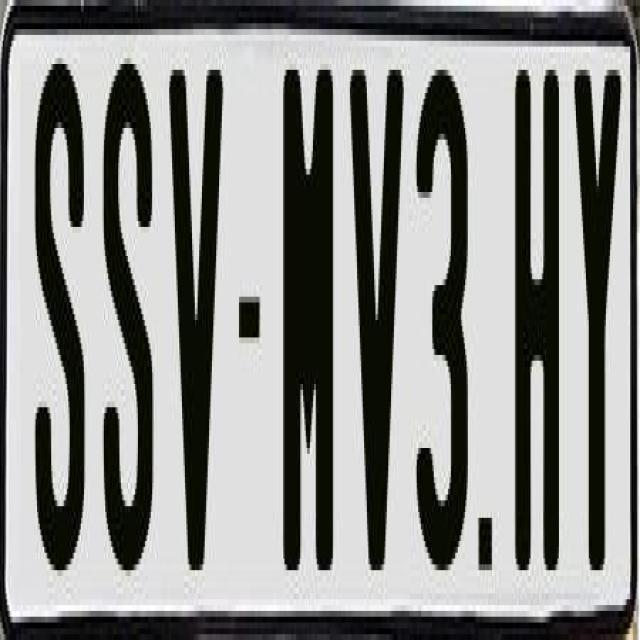3: (414, 58, 472, 594)
H: (512, 64, 563, 570)
M: (282, 52, 341, 588)
S: (102, 47, 152, 564), (33, 64, 84, 570)
V: (165, 70, 226, 594), (346, 52, 402, 564)
Y: (570, 70, 613, 594)
